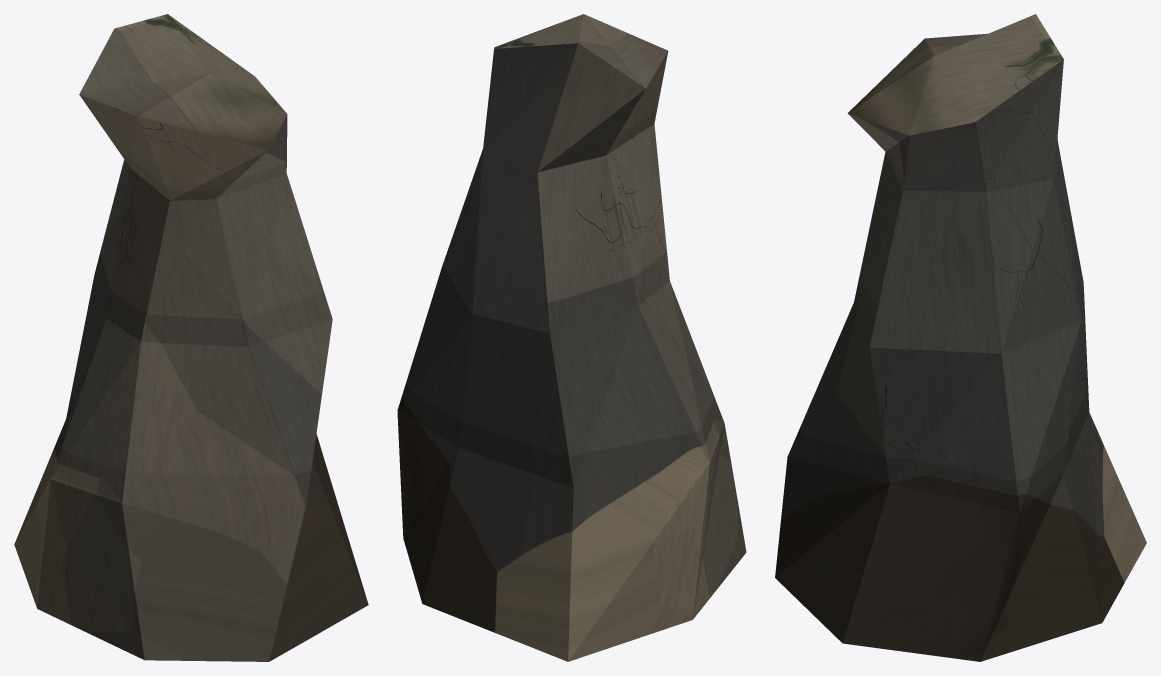
Rendered from monolito-01.glb.
The picture shows the model from 3 angles, left to right: view 1: azimuth 30°, elevation 25°; view 2: azimuth 150°, elevation 25°; view 3: azimuth 270°, elevation 25°; orthographic projection. The views are drawn at different scales.
Parts seen in each view (by area): view 1: monolito-01-pp; view 2: monolito-01-pp; view 3: monolito-01-pp.
Part boxes in pixels (left/top/right/bottom): monolito-01-pp: left=14, top=14, right=368, bottom=661; monolito-01-pp: left=397, top=14, right=746, bottom=661; monolito-01-pp: left=775, top=14, right=1146, bottom=661.
Size of the model in its own units: 1.46 by 2.61 by 1.6.
Materials: 1 (1 with a texture image).
